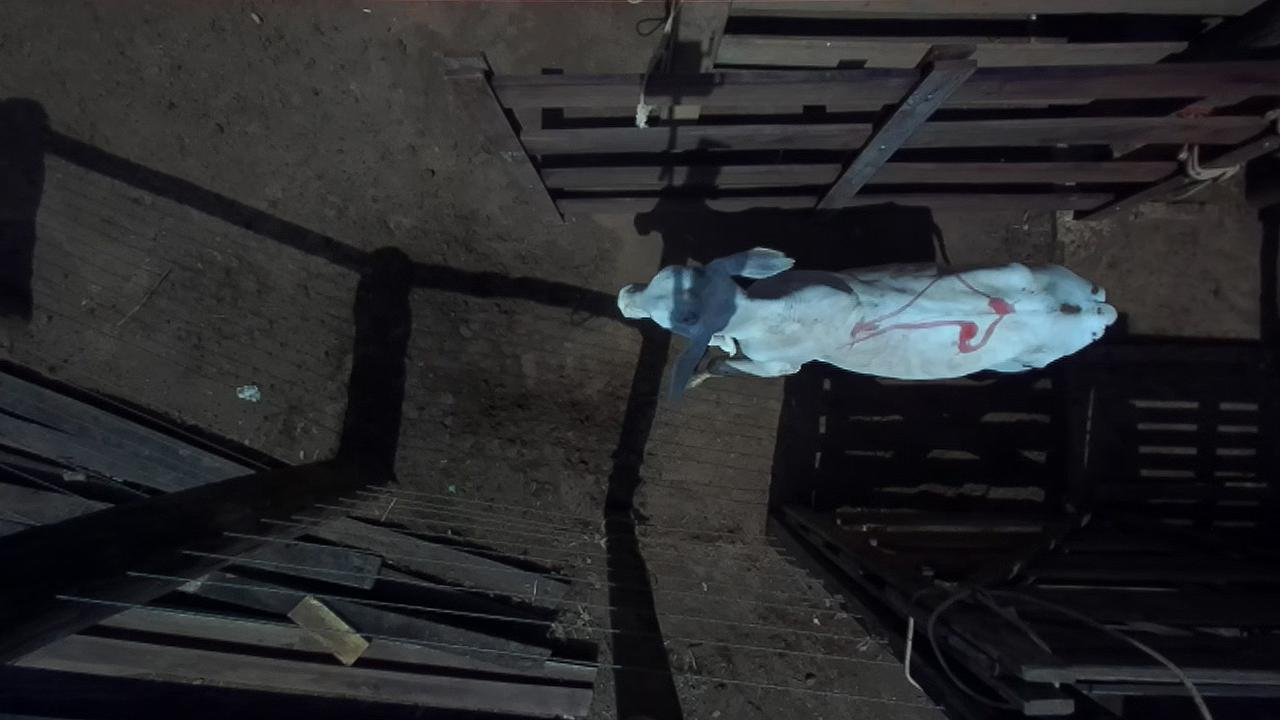cattle: (616, 244, 1119, 401)
